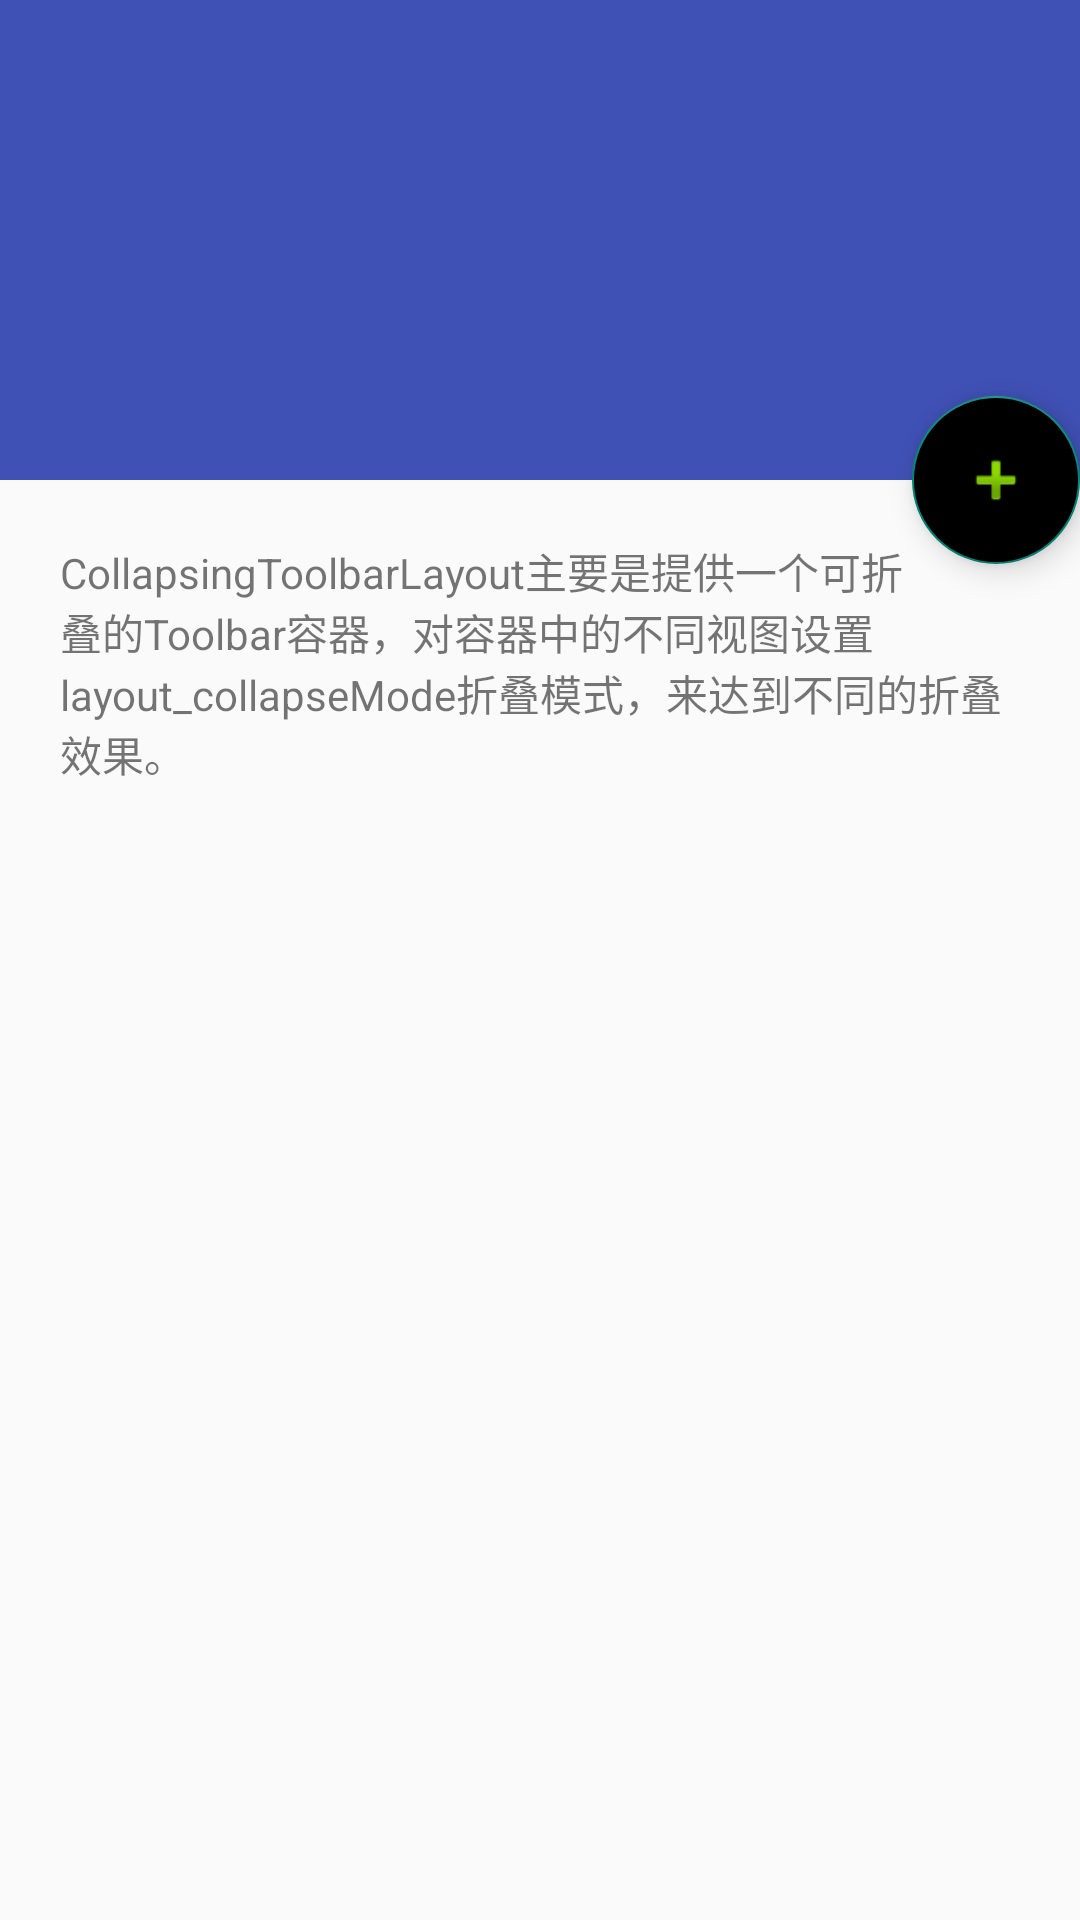

Point at icon controls on the screen. Image size 1080*1920, points as point (x, y).
add: point (996, 480)
